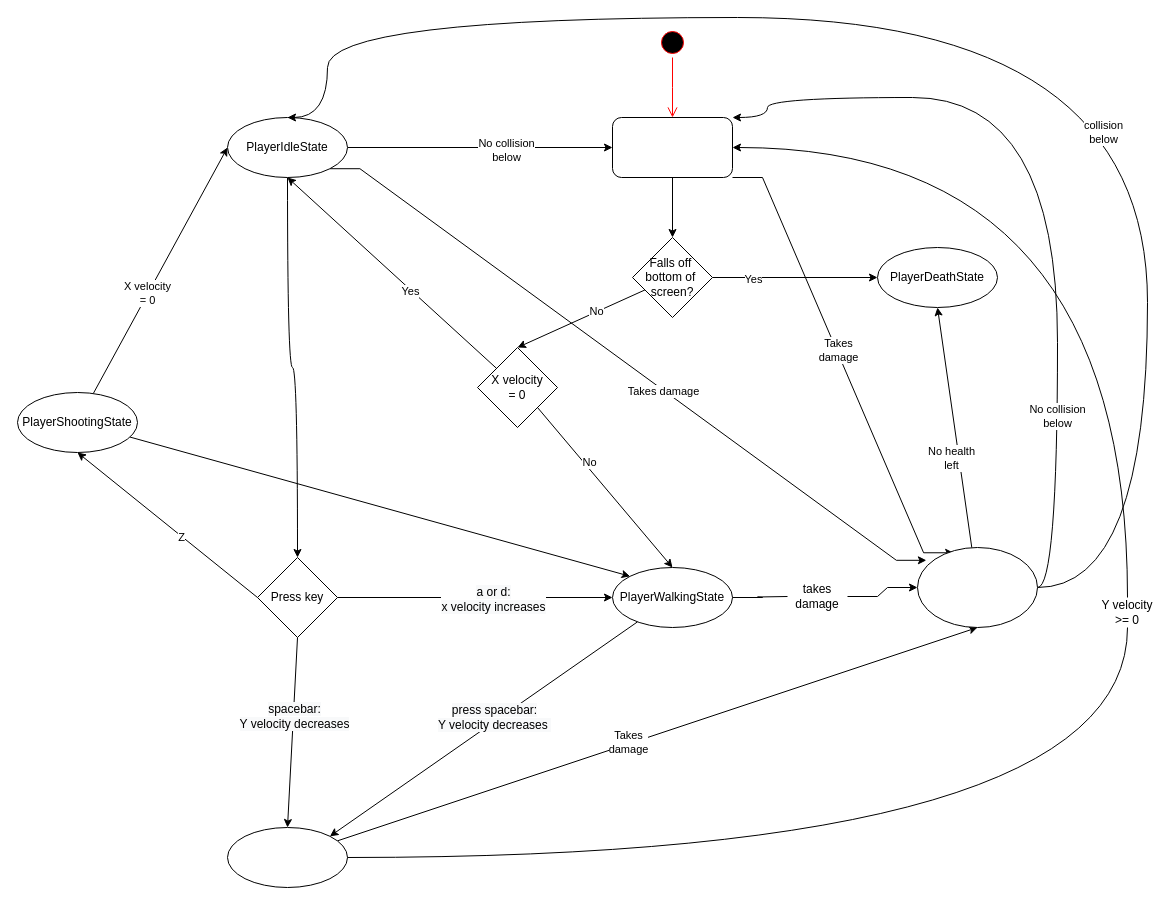
Image size: 1175x905. Some labels were removed from this diagram. The centre of each missing label's shape, as x and y in pixels:
"PlayerFallingState" belongs at point 672,147.
"PlayerHurtState" belongs at point 977,587.
"PlayerJumpingState" belongs at point 287,857.
